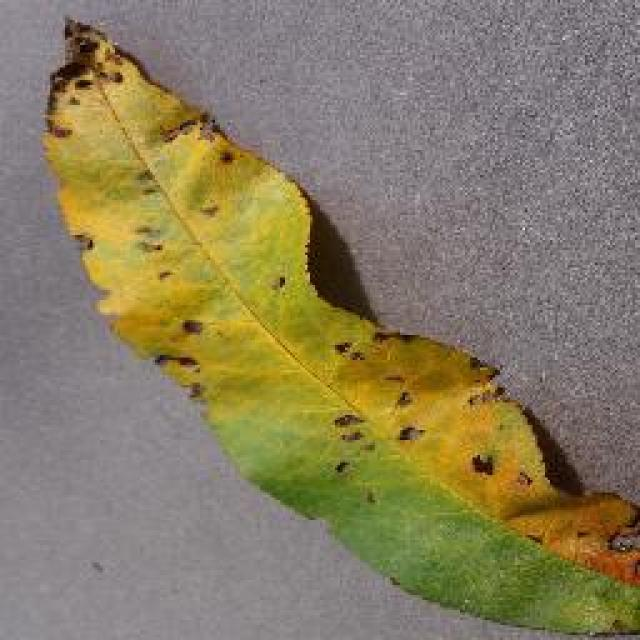Peach_Bacterial_Spot: (45, 3, 480, 462)
